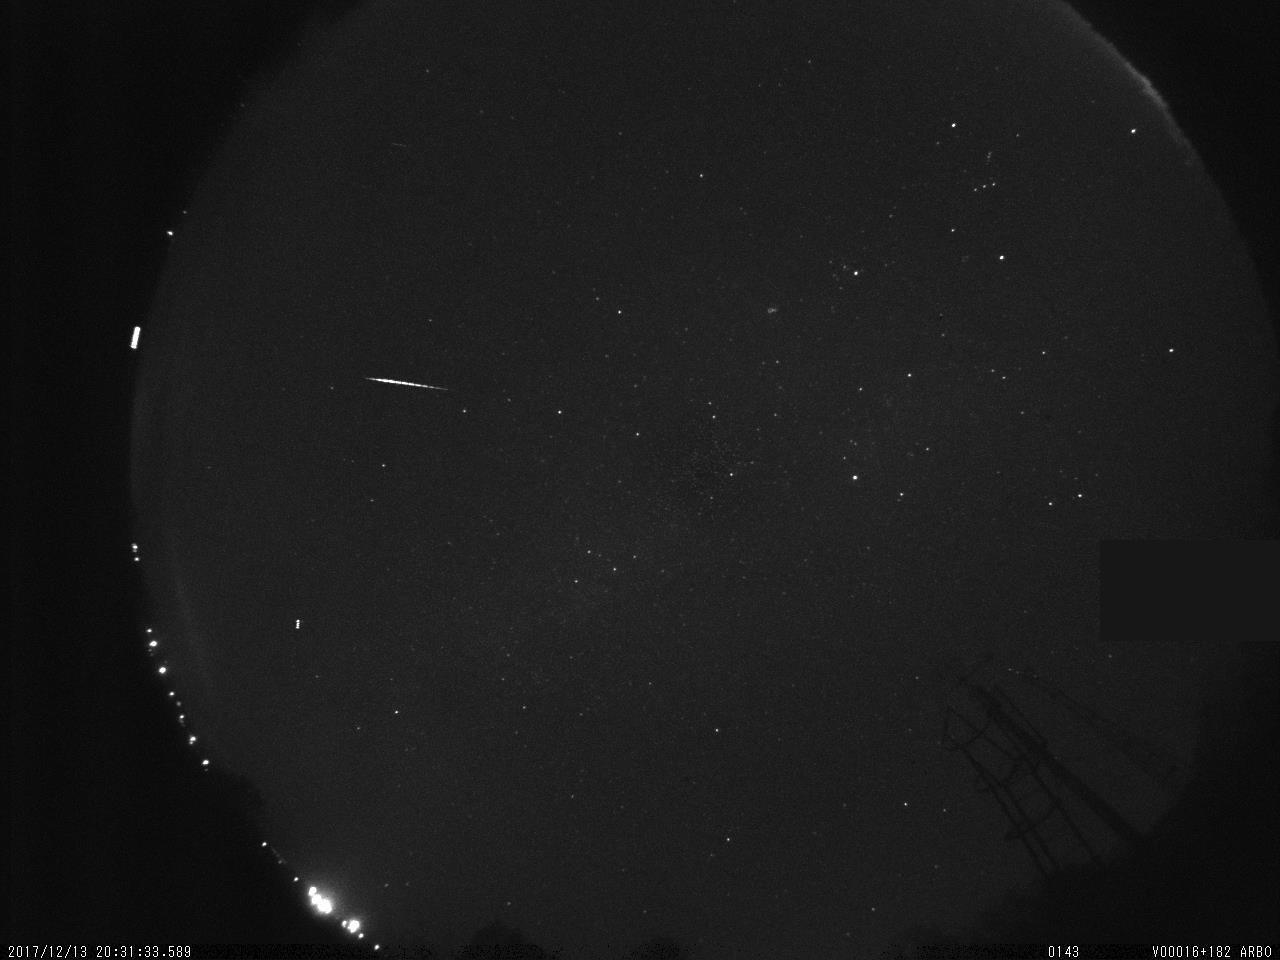meteor: (362, 374, 451, 394)
